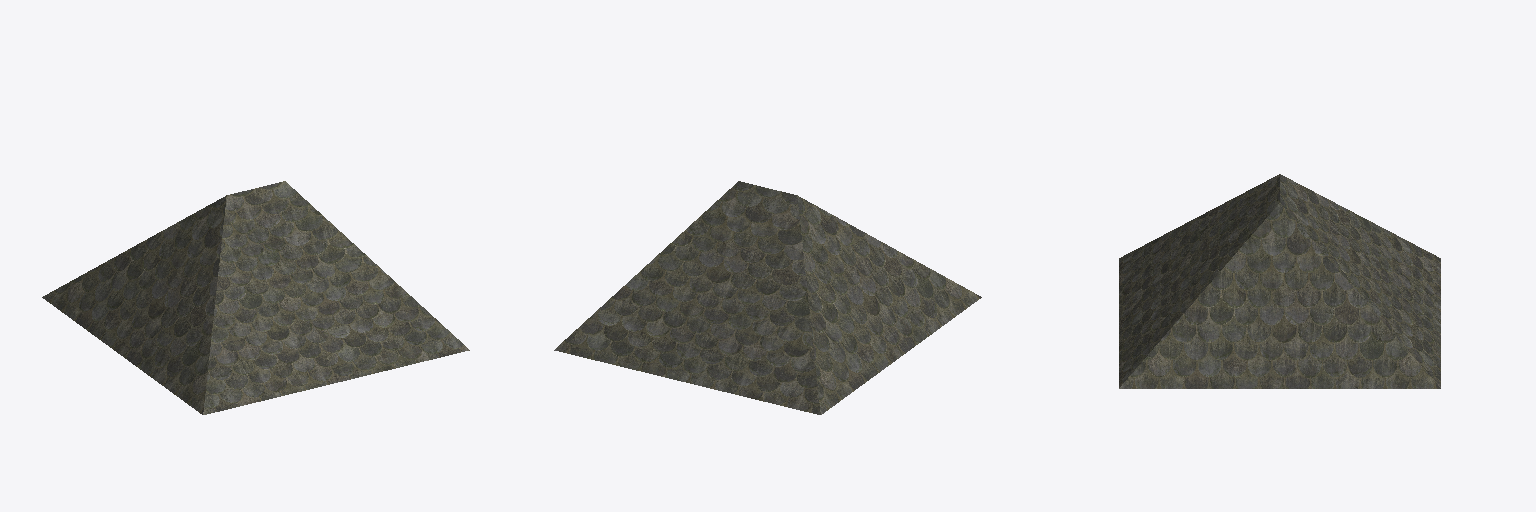
3 views of the same model, side by side, from view 1: azimuth 30°, elevation 25°; view 2: azimuth 150°, elevation 25°; view 3: azimuth 270°, elevation 25° (orthographic).
Visible parts, largest first — view 1: Cube.001; view 2: Cube.001; view 3: Cube.001.
Boxes of the visible parts, <box> form: Cube.001: <box>42,181,469,414</box>; Cube.001: <box>554,181,981,414</box>; Cube.001: <box>1119,174,1440,388</box>.
Bounding box in the file's own units: 2 × 0.97 × 2.09.
1 materials, 1 textured.